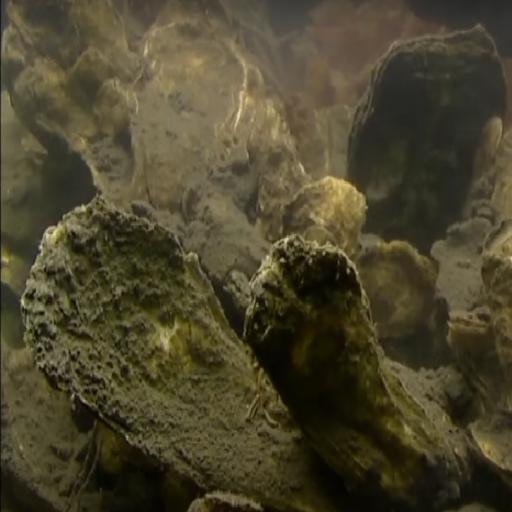Oyster-Closed: (30, 202, 301, 499), (248, 238, 461, 512), (141, 33, 248, 210), (361, 244, 442, 338), (283, 182, 367, 245), (465, 414, 512, 484)
Oyster-Open: (351, 26, 509, 251), (449, 311, 489, 339)
